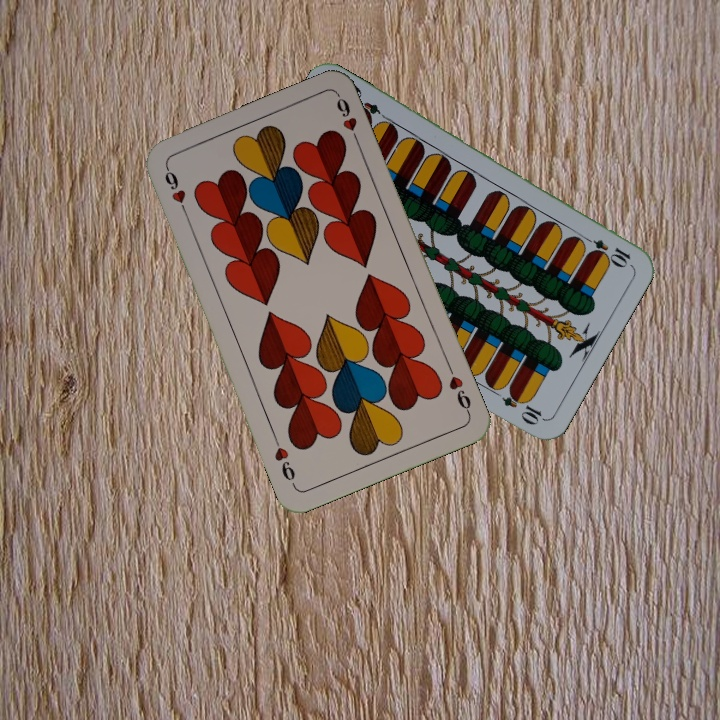E10: (577, 231, 633, 269)
H9: (443, 361, 474, 417), (160, 163, 191, 219)
